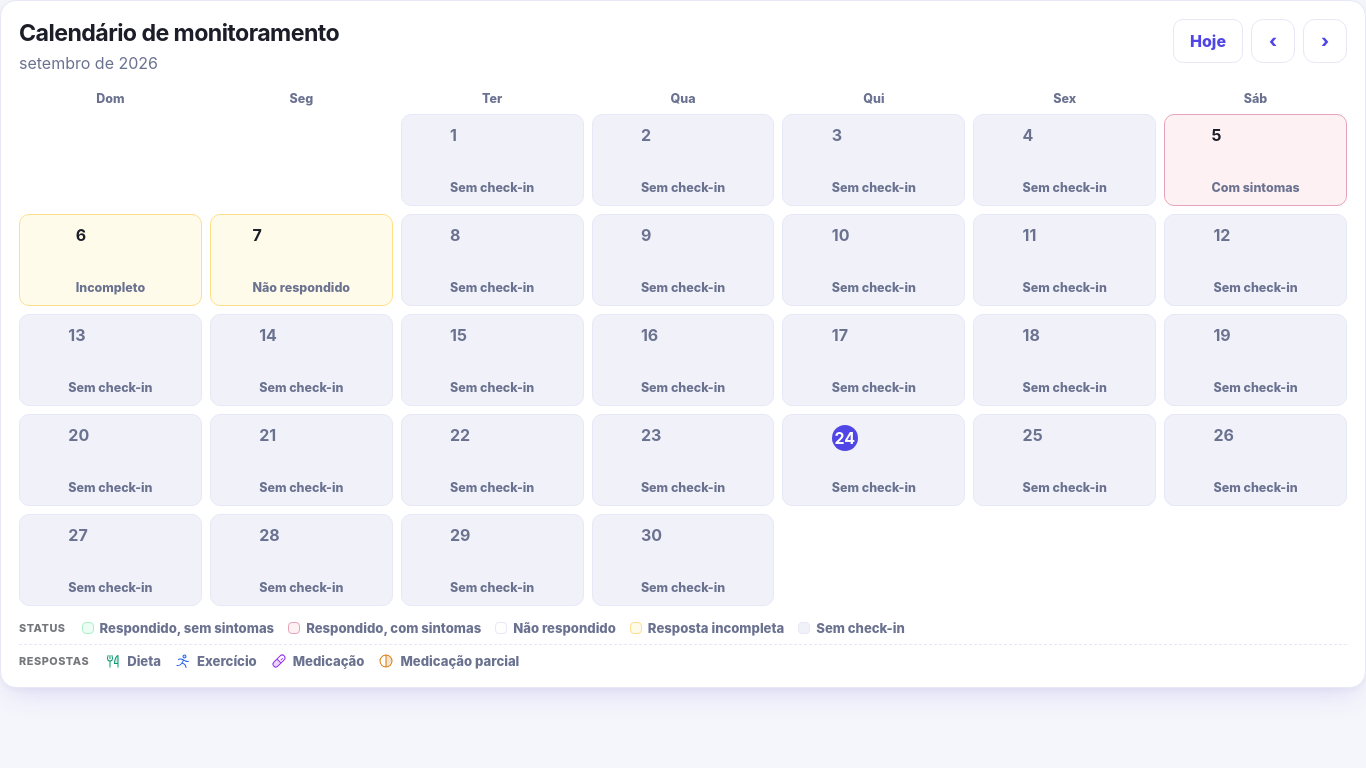
Test case: calendário de monitoramento (visão do profissional, somente leitura) › renderiza os dias do calendário do paciente e não expõe nenhuma ação de edição/exclusão
Expected: the heading "Calendário de monitoramento" is shown, left=19, top=19, right=339, bottom=47
// Open the day-detail modal for the day with a completed, symptomatic check-in.
Click the button "5 Com sintomas" at (1256, 160), box left=1164, top=114, right=1347, bottom=206
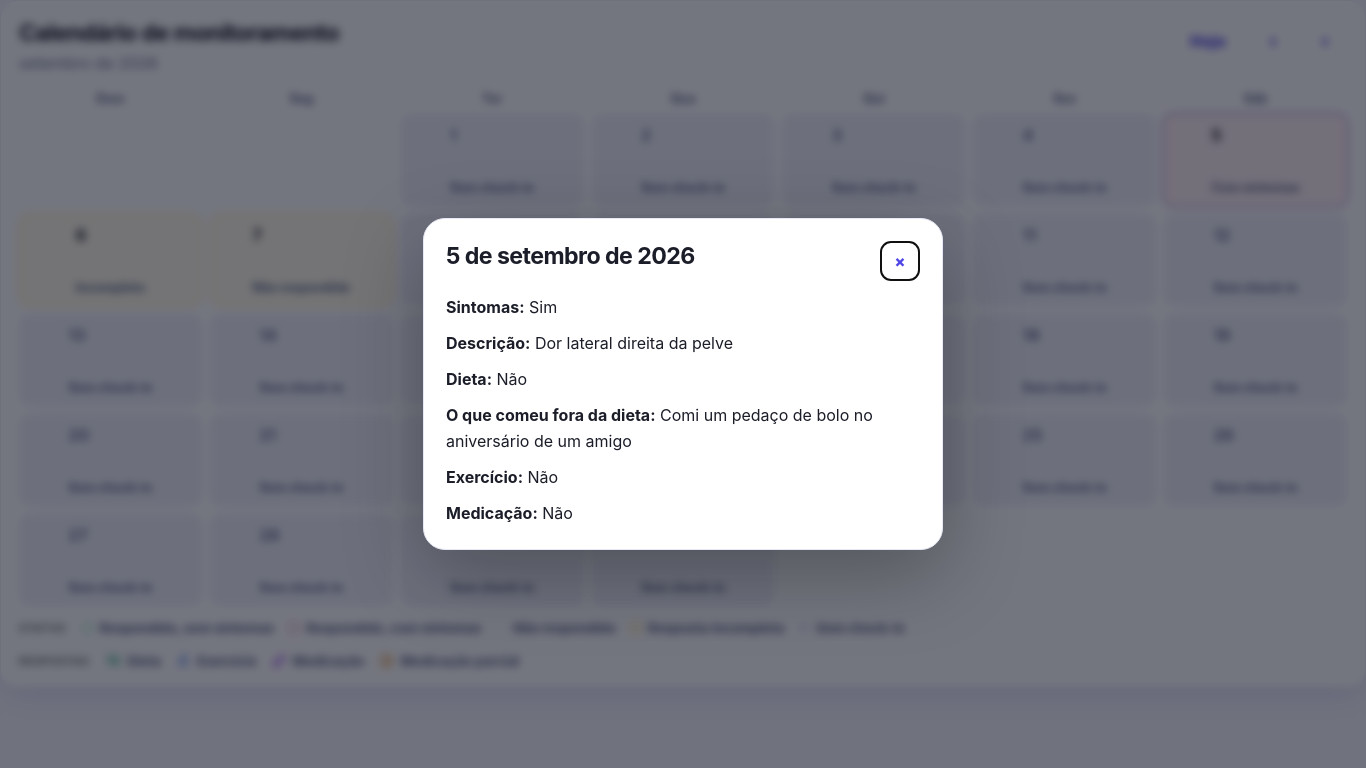
Result: the text "Sintomas:" is shown at left=446, top=297, right=524, bottom=317
Result: the text "Dor lateral direita da pelve" is shown at left=535, top=333, right=733, bottom=353
Result: the text "Comi um pedaço de bolo no aniversário de um amigo" is shown at left=446, top=405, right=873, bottom=451
